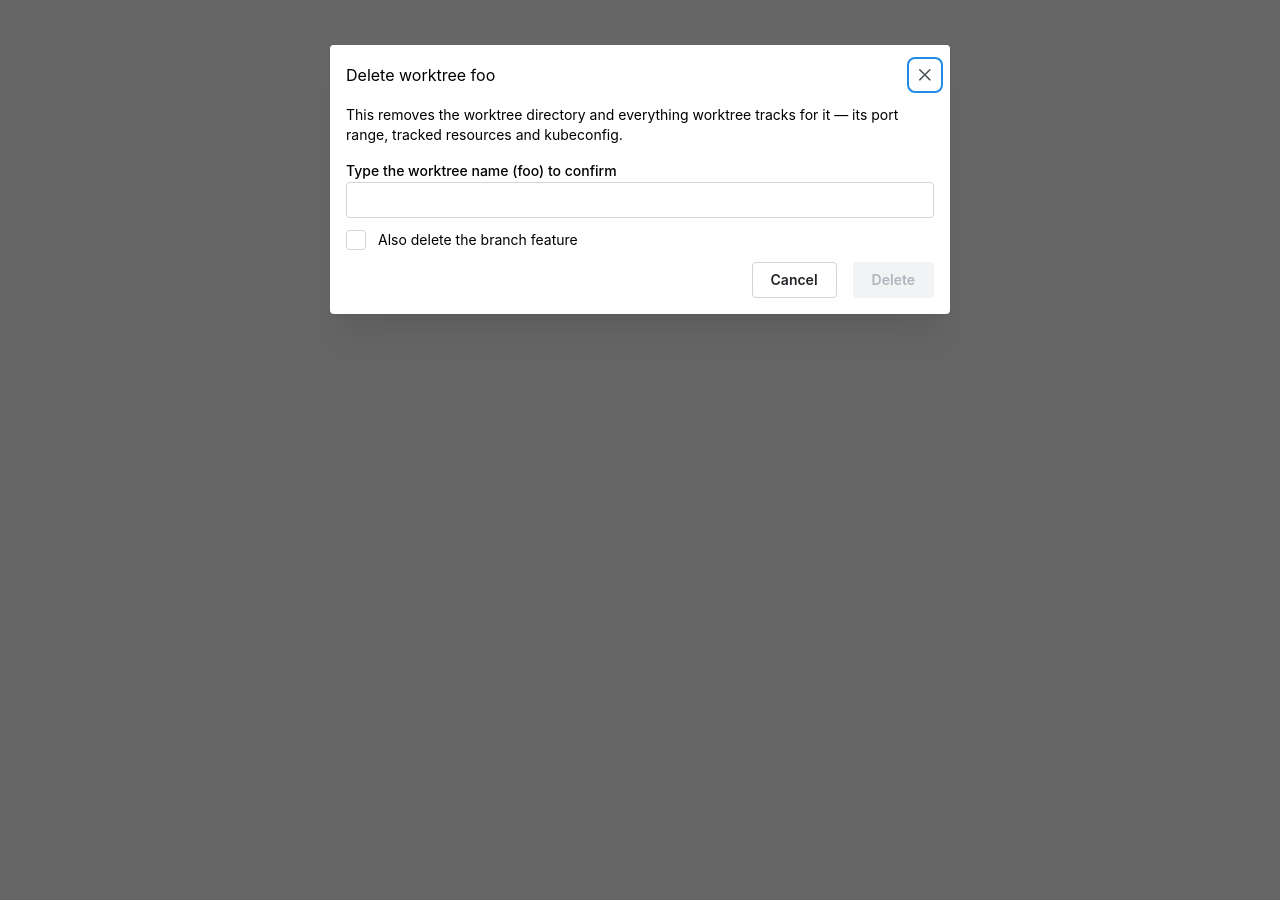
DeleteWorktreeModal › still shows a top-level error that differs from every step's detail
Step 1. Type "foo" into the field labelled "Type the worktree name (foo) to confirm" → coordinates (640, 200), box top-left (346, 182), bottom-right (934, 218)
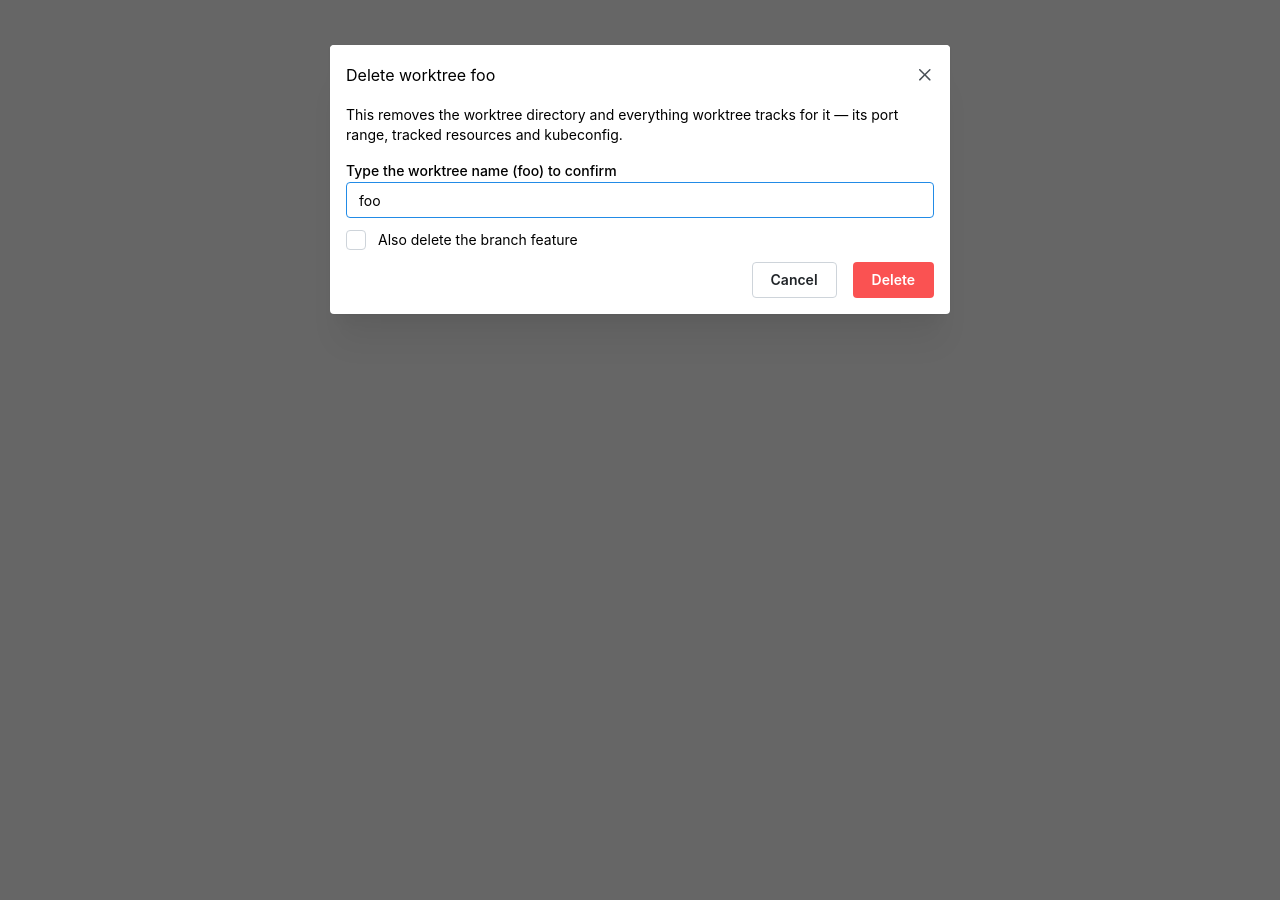
Step 2. Click the button "Delete" → coordinates (893, 280), box top-left (853, 262), bottom-right (934, 298)
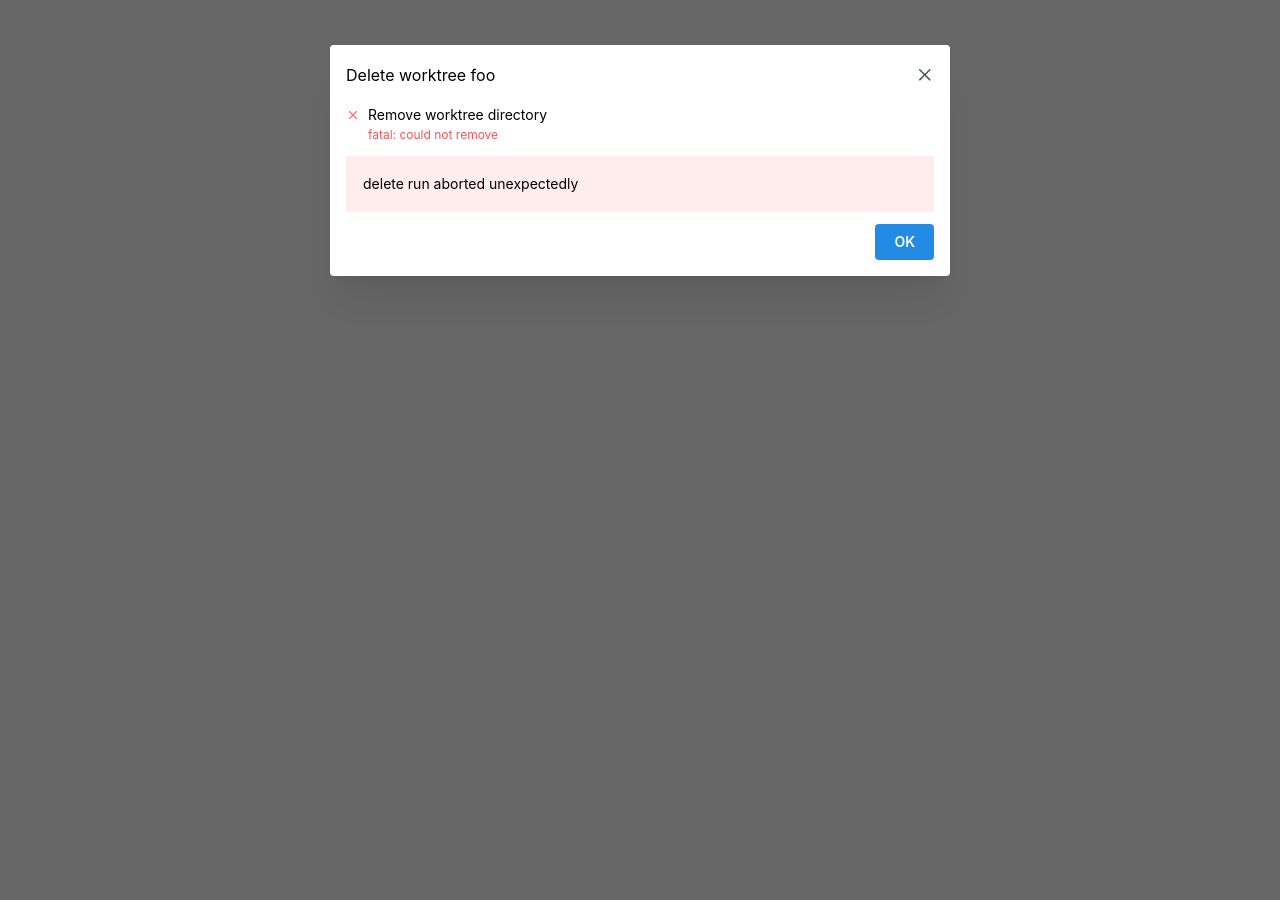
expect the text "fatal: could not remove" is shown: met, box top-left (368, 127), bottom-right (498, 142)
expect the text "delete run aborted unexpectedly" is shown: met, box top-left (363, 175), bottom-right (578, 192)
